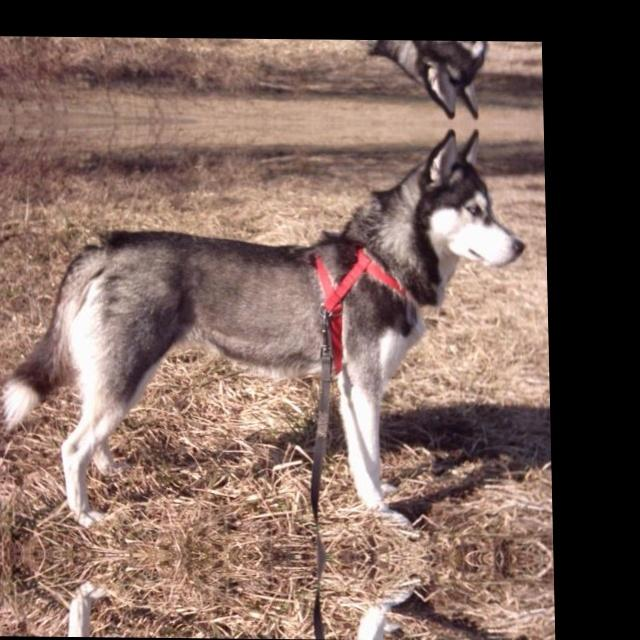dog: (28, 144, 514, 536), (37, 576, 516, 640), (25, 36, 504, 98)
